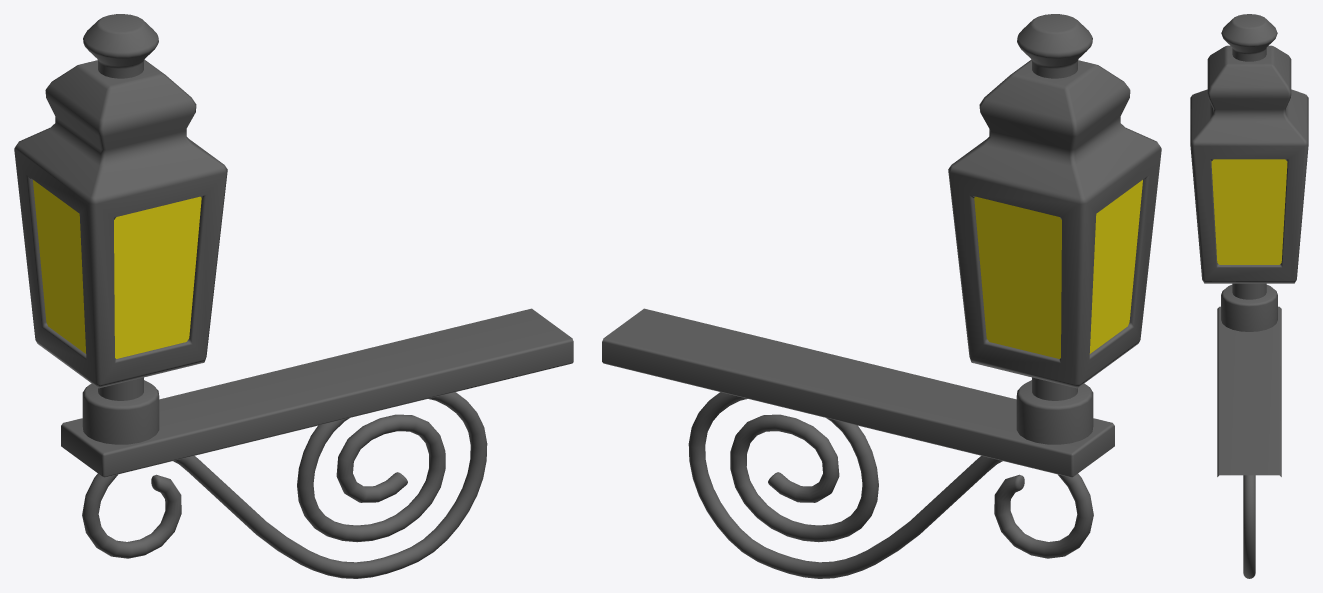
Rendered from City_12_Stree_Wall_Lamp_1.glb.
3 renders of one model, left to right at view 1: azimuth 30°, elevation 25°; view 2: azimuth 150°, elevation 25°; view 3: azimuth 270°, elevation 25°, orthographic. The views are drawn at different scales.
Visible parts, largest first — view 1: City_12_Stree_Wall_Lamp_1; view 2: City_12_Stree_Wall_Lamp_1; view 3: City_12_Stree_Wall_Lamp_1.
Part boxes in pixels (x1,y1,x2,y2): City_12_Stree_Wall_Lamp_1: (14, 14, 573, 578); City_12_Stree_Wall_Lamp_1: (602, 14, 1161, 578); City_12_Stree_Wall_Lamp_1: (1190, 14, 1308, 578).
Bounding box in the file's own units: 1.52 × 1.79 × 0.4222.
Materials: 1 (1 with a texture image).
